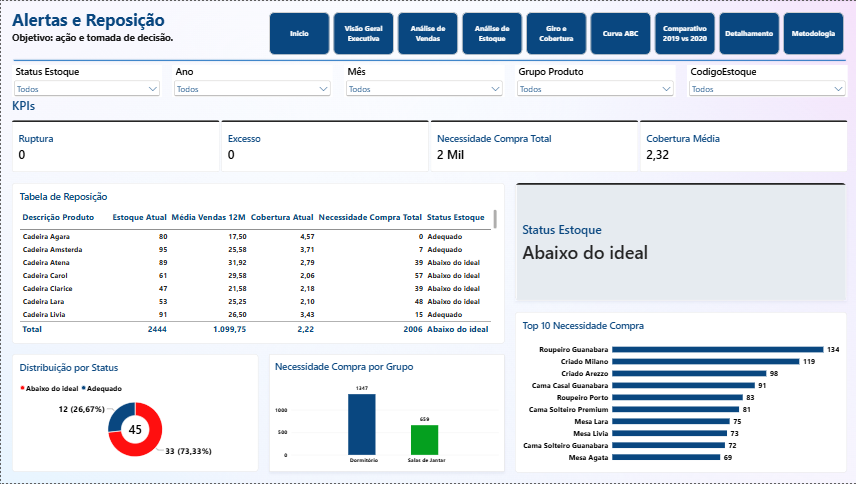

This screenshot's page, from the dashboard's own definition file:
{"tool":"powerbi","page":{"name":"Alertas e Reposição","canvas":[1920,1080],"ordinal":7},"visuals":[{"type":"textbox","box":[24,0,552,120],"z":0},{"type":"pageNavigator","title":"Áreas de Análise:","box":[600,24,1296,96],"z":1000},{"type":"shape","box":[24,120,1872,24],"z":2000},{"type":"slicer","fields":{"Values":["dCalendario.Ano"]},"box":[384,144,360,72],"z":3000},{"type":"slicer","fields":{"Values":["dCalendario.Mês"]},"box":[768,144,360,72],"z":4000},{"type":"slicer","fields":{"Values":["dGrupoProduto.Grupo Produto"]},"box":[1152,144,360,72],"z":5000},{"type":"slicer","fields":{"Values":["dEstoque.CodigoEstoque"]},"box":[1536,144,360,72],"z":6000},{"type":"cardVisual","title":"KPIs","fields":{"Data":["Medidas.Ruptura","Medidas.Excesso","Medidas.Necessidade Compra Total","Medidas.Cobertura Média"]},"box":[24,216,1872,168],"z":7000},{"type":"tableEx","title":"Tabela de Reposição","fields":{"Values":["dProduto.Descrição Produto","Medidas.Estoque Atual","Medidas.Média Vendas 12M","Medidas.Cobertura Atual","Medidas.Necessidade Compra Total","Medidas.Status Estoque"]},"box":[24,408,1104,360],"z":8000},{"type":"barChart","title":"Top 10 Necessidade Compra","fields":{"Category":["dProduto.Descrição Produto"],"Y":["Medidas.Necessidade Compra Total"]},"box":[1152,696,744,360],"z":9000},{"type":"columnChart","title":"Necessidade Compra por Grupo","fields":{"Category":["dProduto.Grupo Produto"],"Y":["Medidas.Necessidade Compra Total"]},"box":[600,792,528,264],"z":10000},{"type":"donutChart","title":"Distribuição por Status","fields":{"Category":["dProduto.Status Estoque (coluna)"],"Y":["Count(dProduto.Código Produto)"]},"box":[24,792,552,264],"z":11000},{"type":"slicer","fields":{"Values":["dProduto.Status Estoque (coluna)"]},"box":[24,144,336,72],"z":12000},{"type":"cardVisual","fields":{"Data":["Medidas.Status Estoque"]},"box":[1152,408,744,264],"z":13000}]}

Visuals, with their boxes in screenshot pixels (x1, y1, x2, y2), scaled from the page's 1920x1080 canvas onto the 856x484 screenshot:
textbox: [x1=11, y1=0, x2=257, y2=54]
"Áreas de Análise:" pageNavigator: [x1=268, y1=11, x2=845, y2=54]
shape: [x1=11, y1=54, x2=845, y2=65]
slicer - dCalendario.Ano: [x1=171, y1=65, x2=332, y2=97]
slicer - dCalendario.Mês: [x1=342, y1=65, x2=503, y2=97]
slicer - dGrupoProduto.Grupo Produto: [x1=514, y1=65, x2=674, y2=97]
slicer - dEstoque.CodigoEstoque: [x1=685, y1=65, x2=845, y2=97]
"KPIs" cardVisual: [x1=11, y1=97, x2=845, y2=172]
"Tabela de Reposição" tableEx: [x1=11, y1=183, x2=503, y2=344]
"Top 10 Necessidade Compra" barChart: [x1=514, y1=312, x2=845, y2=473]
"Necessidade Compra por Grupo" columnChart: [x1=268, y1=355, x2=503, y2=473]
"Distribuição por Status" donutChart: [x1=11, y1=355, x2=257, y2=473]
slicer - dProduto.Status Estoque (coluna): [x1=11, y1=65, x2=160, y2=97]
cardVisual - Medidas.Status Estoque: [x1=514, y1=183, x2=845, y2=301]
